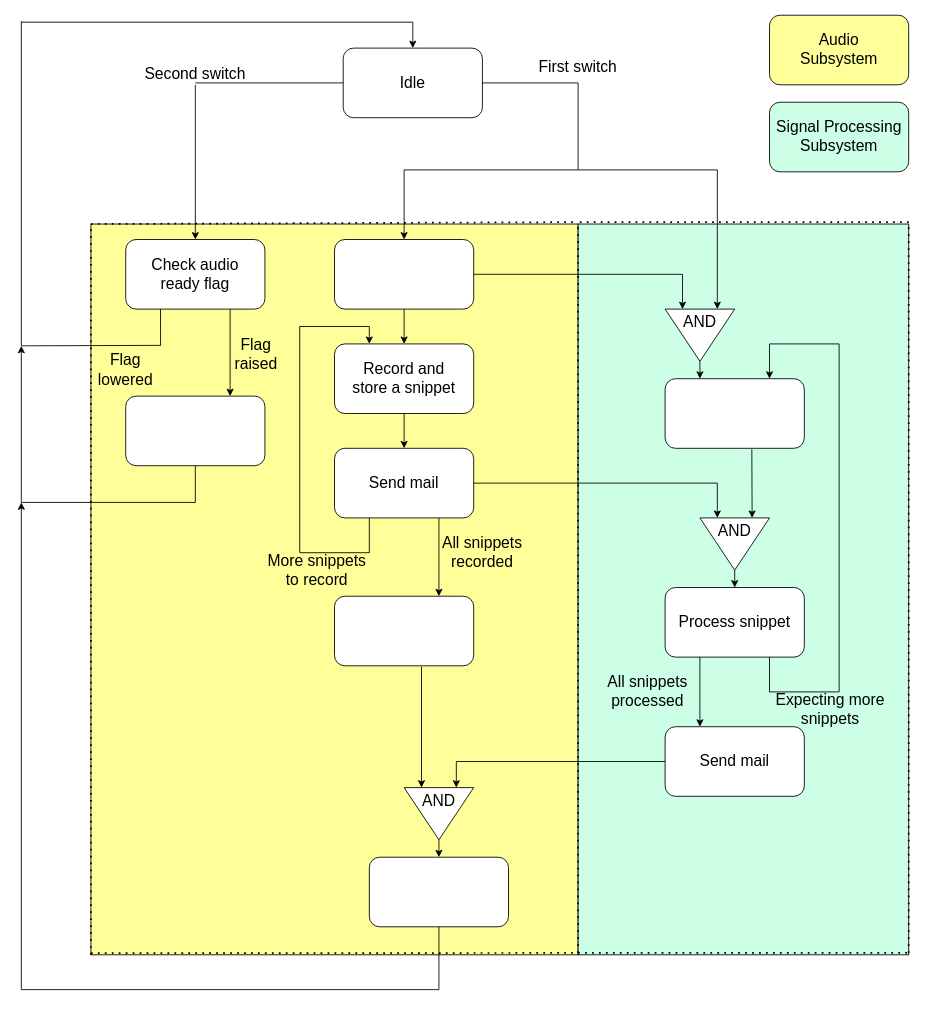
The diagram is 926 pixels wide and 1012 high, and some of its shapes have lost their labels. Here are the shapes that lost their labels. From the top down, the centre of each, then its label:
the point at 404,274: Send initial mail
the point at 195,430: Play audio
the point at 734,413: Wait for a snippet
the point at 404,630: Wait for all snippets to be processed
the point at 438,891: Raise audio ready flag
